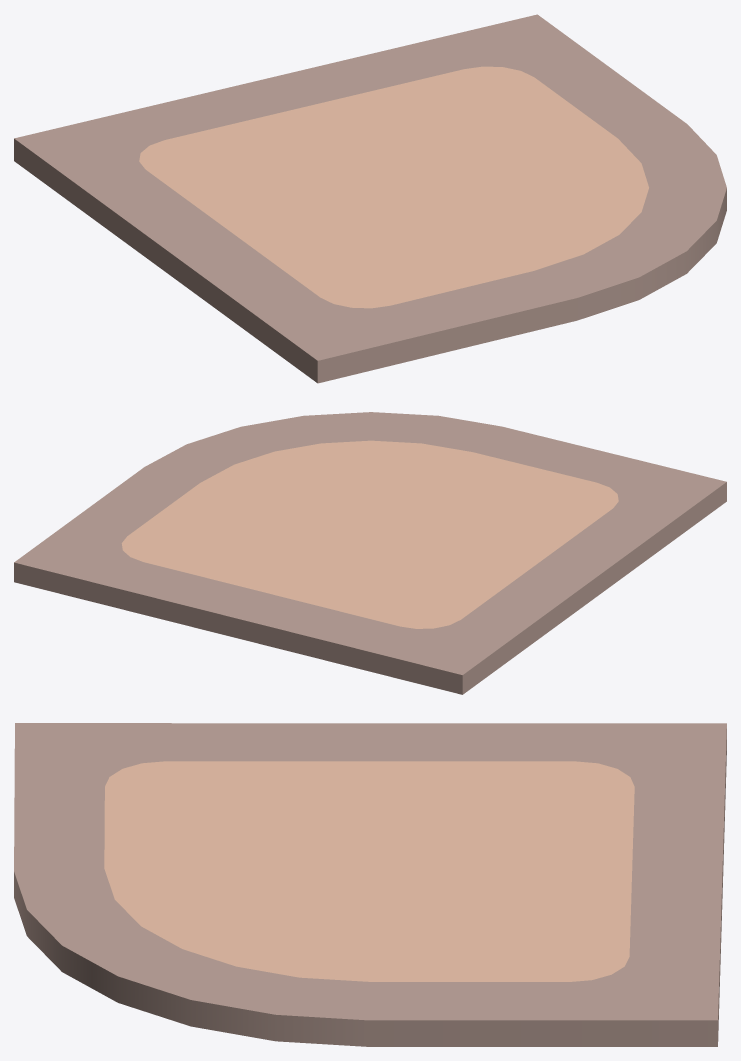
File: Deck_Floor_Ceiling_corner_inner.fbx
The picture shows the model from 3 angles, top to bottom: view 1: azimuth 30°, elevation 25°; view 2: azimuth 150°, elevation 25°; view 3: azimuth 270°, elevation 25°; orthographic projection. The views are drawn at different scales.
Visible parts, largest first — view 1: Floor_corner_inner; view 2: Floor_corner_inner; view 3: Floor_corner_inner.
Boxes of the visible parts, x1=… form: Floor_corner_inner: x1=14, y1=14, x2=726, y2=383; Floor_corner_inner: x1=14, y1=412, x2=726, y2=694; Floor_corner_inner: x1=14, y1=723, x2=726, y2=1046.
Size of the model in its own units: 300 by 12.5 by 304.
